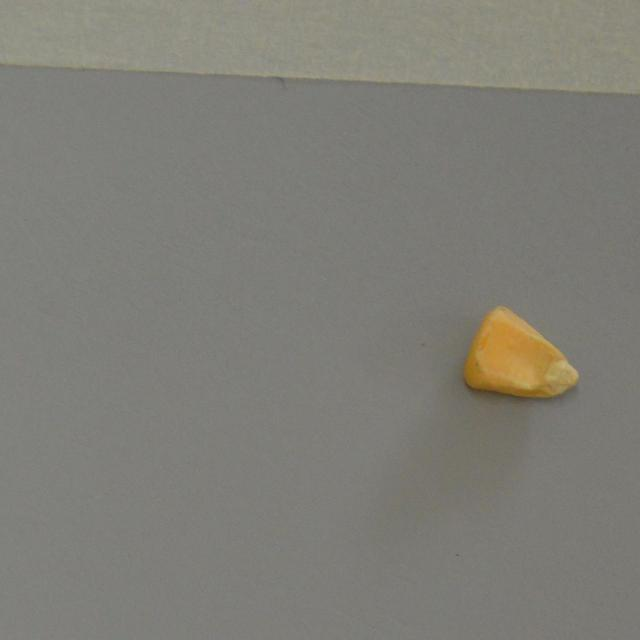entero: (458, 302, 580, 401)
